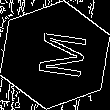M_W: (25, 28, 85, 82)
